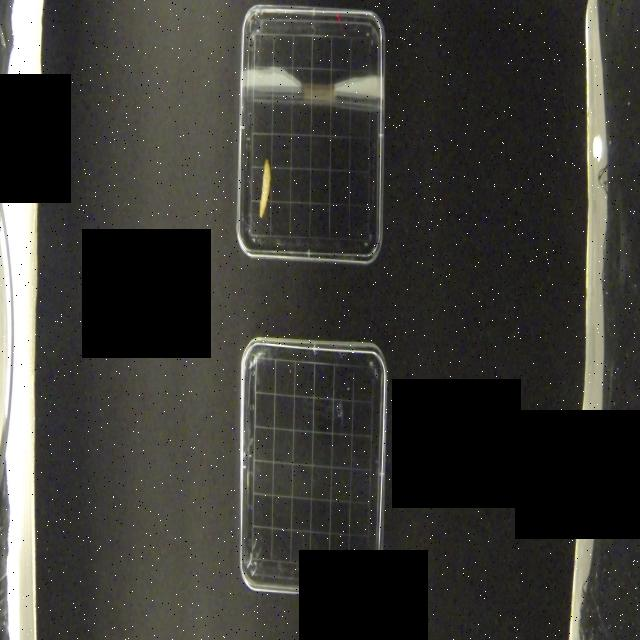larva: (260, 153, 272, 217), (356, 551, 378, 577)
